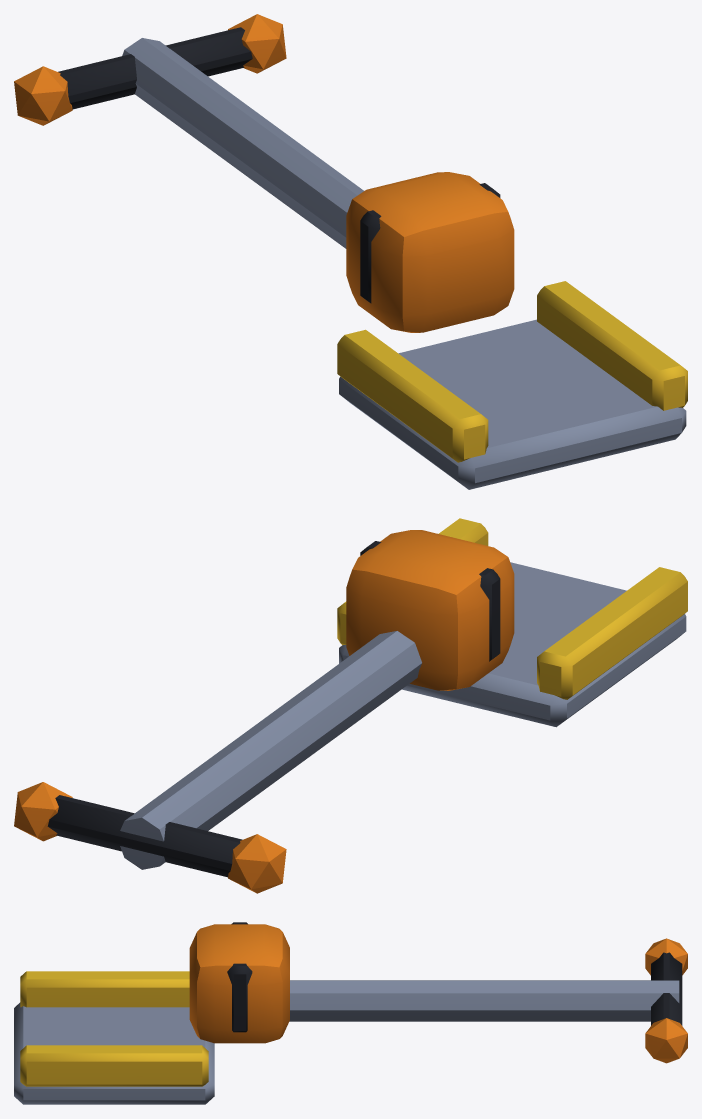
The model's file is w_b_plate.glb.
The picture shows the model from 3 angles, top to bottom: view 1: azimuth 30°, elevation 25°; view 2: azimuth 150°, elevation 25°; view 3: azimuth 270°, elevation 25°; orthographic projection. The views are drawn at different scales.
Visible parts, largest first — view 1: body; view 2: body; view 3: body.
Boxes of the visible parts, x1,y1,x2,y2 form: body: [14, 14, 687, 489]; body: [14, 518, 687, 893]; body: [14, 922, 687, 1104].
Bounding box in the file's own units: 0.2601 × 0.1575 × 0.7518.
